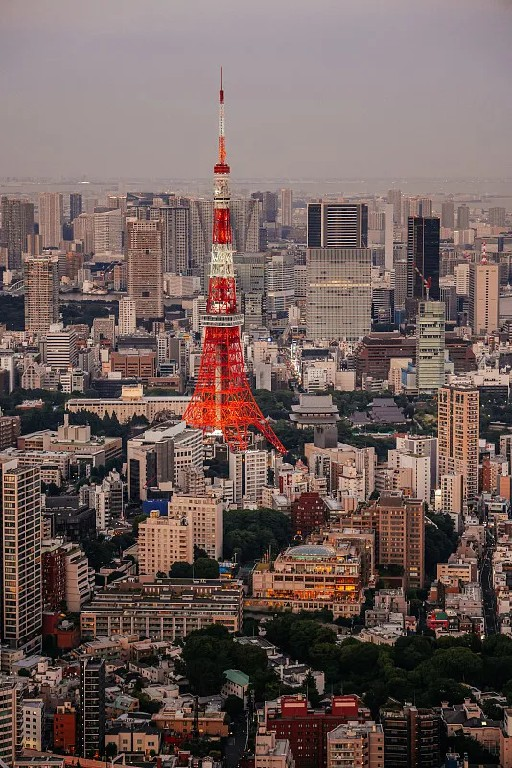Tokyo: (180, 59, 291, 461)
